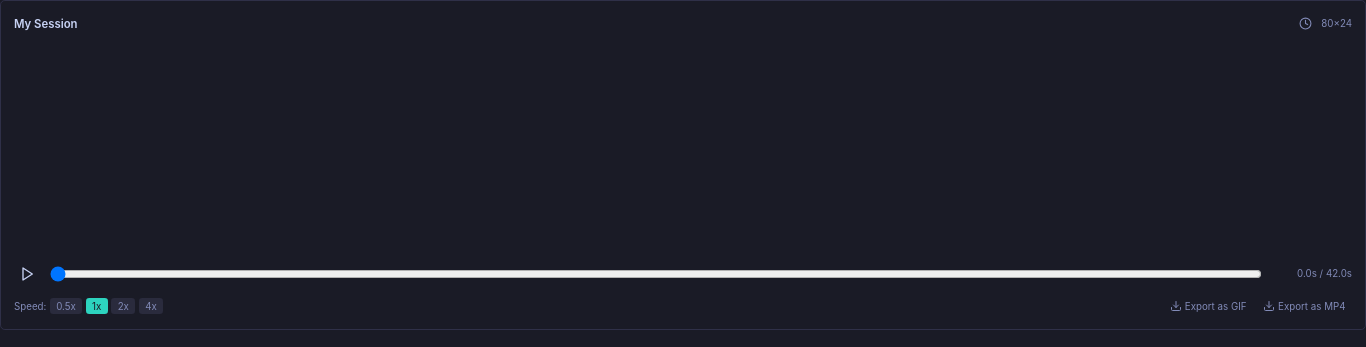
it: RecordingPlayer › appends streamed frame data to the output
Click the 2nd button. click: [27, 274]
box: [14, 261, 40, 287]
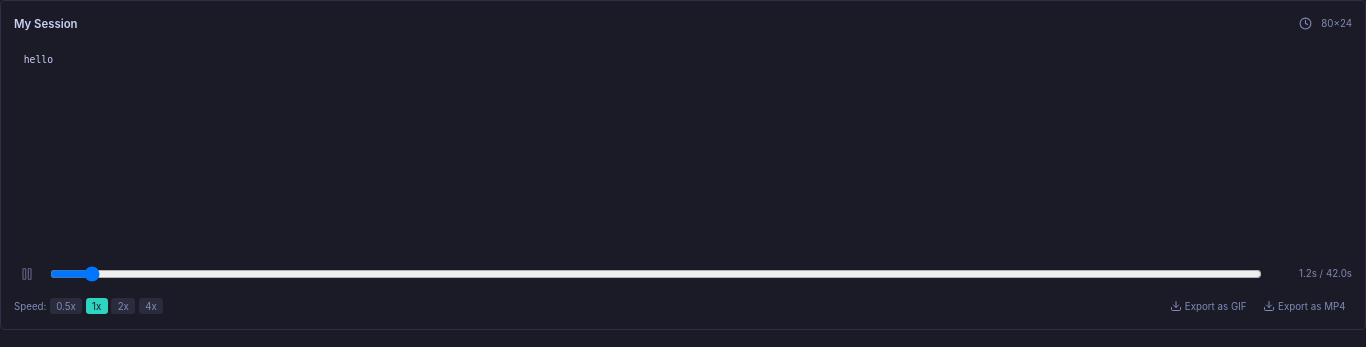
Now the text "hello" is shown, box [24, 54, 53, 65]
